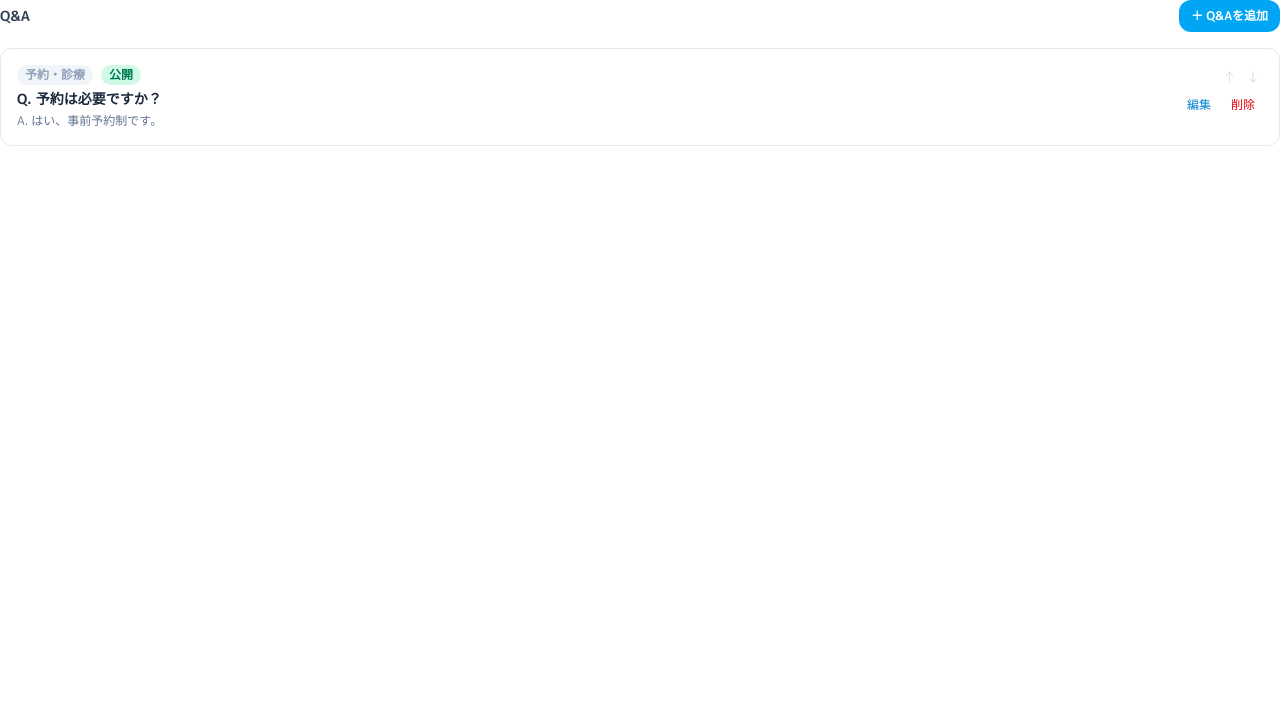
ClinicQaManager › 削除確認パネルで確定すると一覧から消える
The width and height of the screenshot is (1280, 720).
Expected: the text "Q. 予約は必要ですか？" is shown, [17,89,162,108]
What coordinates should you click on to do the following:
click the button "削除"
I would click on:
 (1243, 105)
Its box is [1223,93,1263,117].
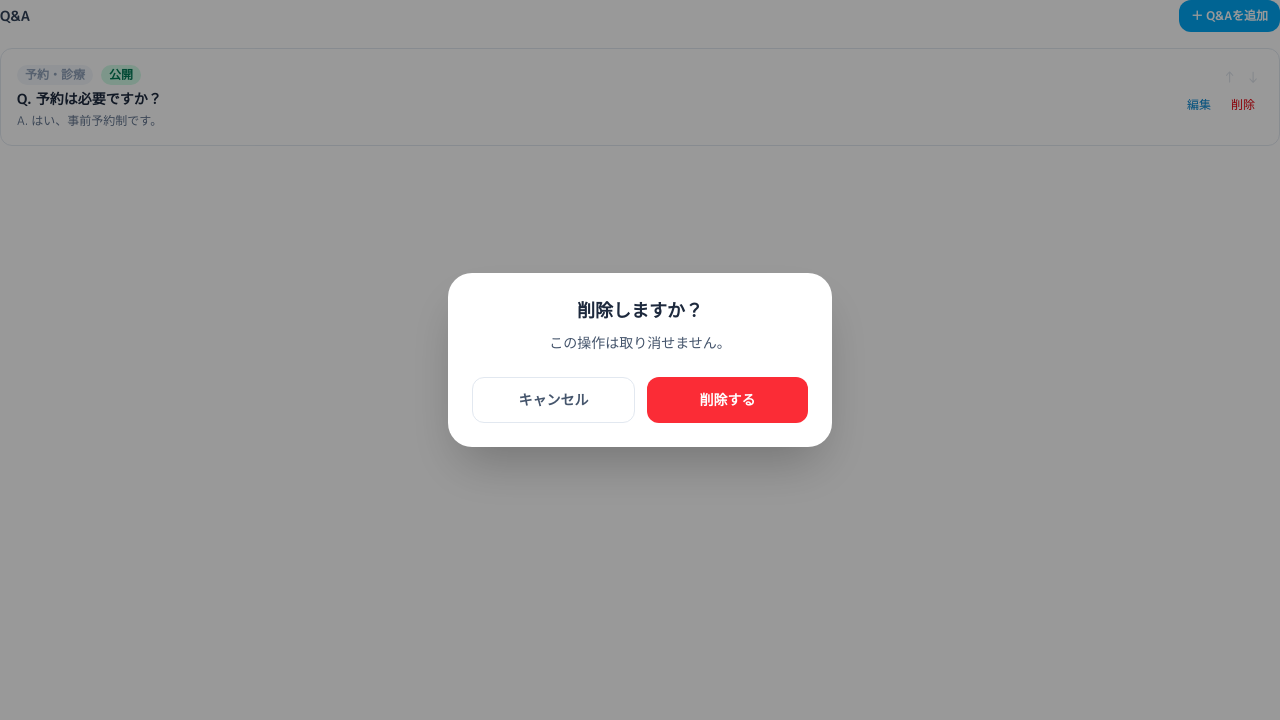
What coordinates should you click on to do the following:
click the button "削除する"
I would click on:
 (728, 400)
Its box is [647,377,808,423].
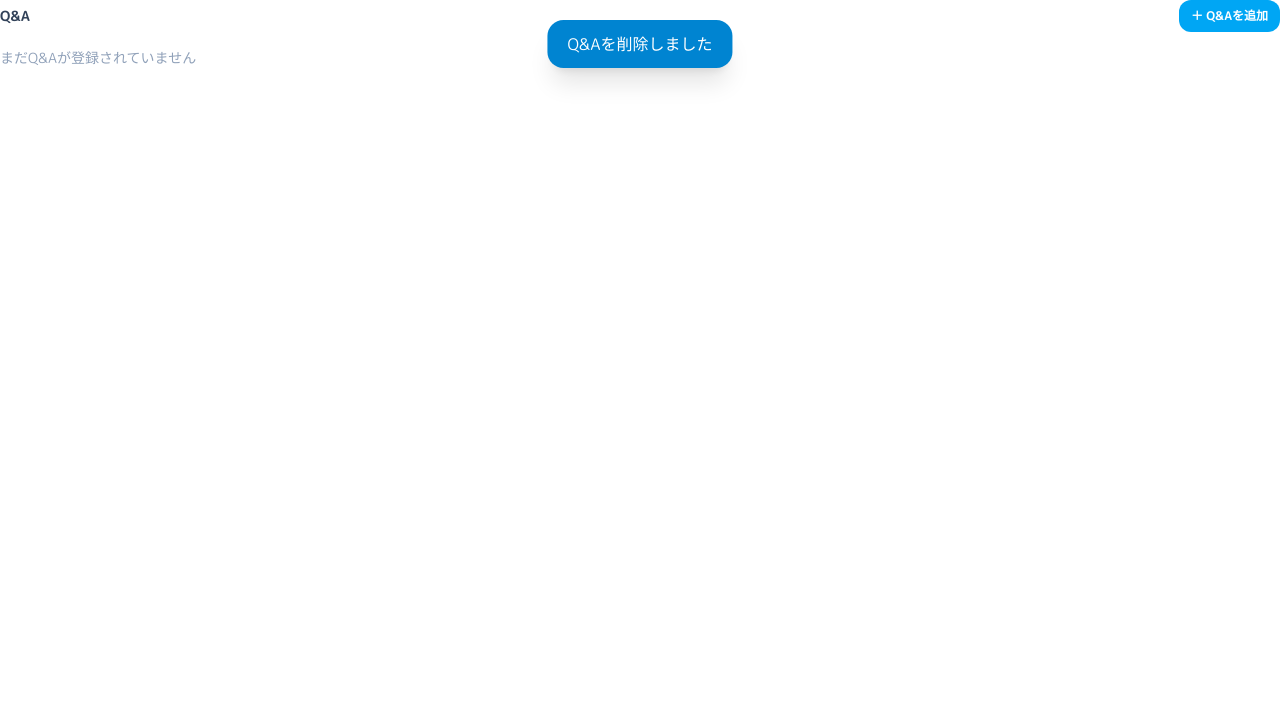
Expected: the text "Q&Aを削除しました" is shown, [547,20,732,68]
Expected: the text "Q. 予約は必要ですか？" is gone
